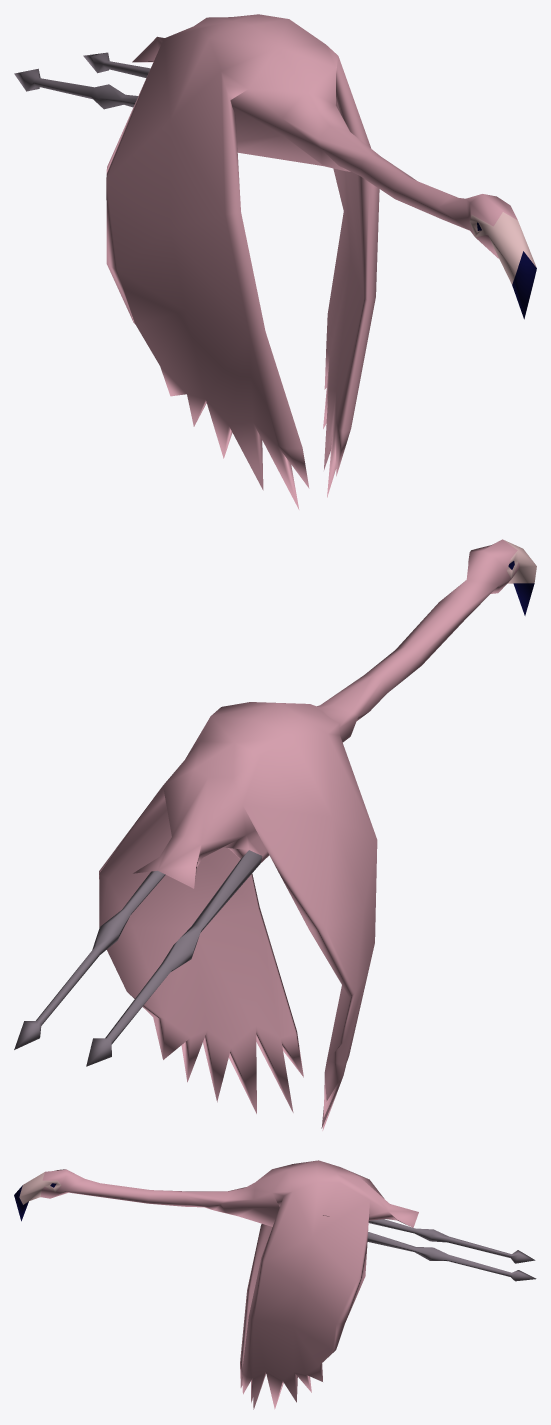
File: flamingo1.glb
3 views of the same model, one above another, from view 1: azimuth 30°, elevation 25°; view 2: azimuth 150°, elevation 25°; view 3: azimuth 270°, elevation 25° (orthographic). The views are drawn at different scales.
Parts seen in each view (by area): view 1: pink; view 2: pink; view 3: pink.
Part boxes in pixels (<box>): pink: <box>14,14,536,509</box>; pink: <box>14,539,536,1130</box>; pink: <box>14,1160,536,1409</box>.
Bounding box in the file's own units: 52.2 × 89.1 × 177.
